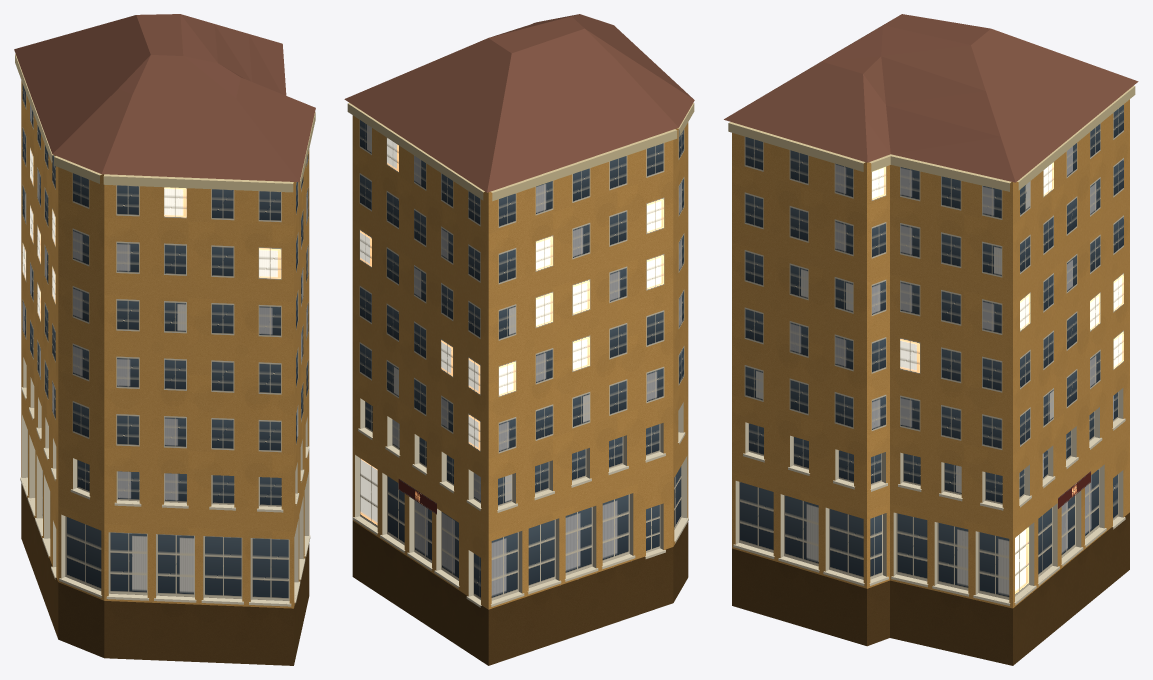
Rendered from langB_strauss.glb.
3 renders of one model, left to right at view 1: azimuth 30°, elevation 25°; view 2: azimuth 150°, elevation 25°; view 3: azimuth 270°, elevation 25°, orthographic. The views are drawn at different scales.
Parts seen in each view (by area): view 1: langB_strauss; view 2: langB_strauss; view 3: langB_strauss.
Boxes of the visible parts, bbox=[...] form: langB_strauss: bbox=[14, 14, 315, 665]; langB_strauss: bbox=[344, 14, 694, 665]; langB_strauss: bbox=[724, 14, 1138, 665].
Bounding box in the file's own units: 15.64 × 29.43 × 19.67.
3 materials, 3 textured.
